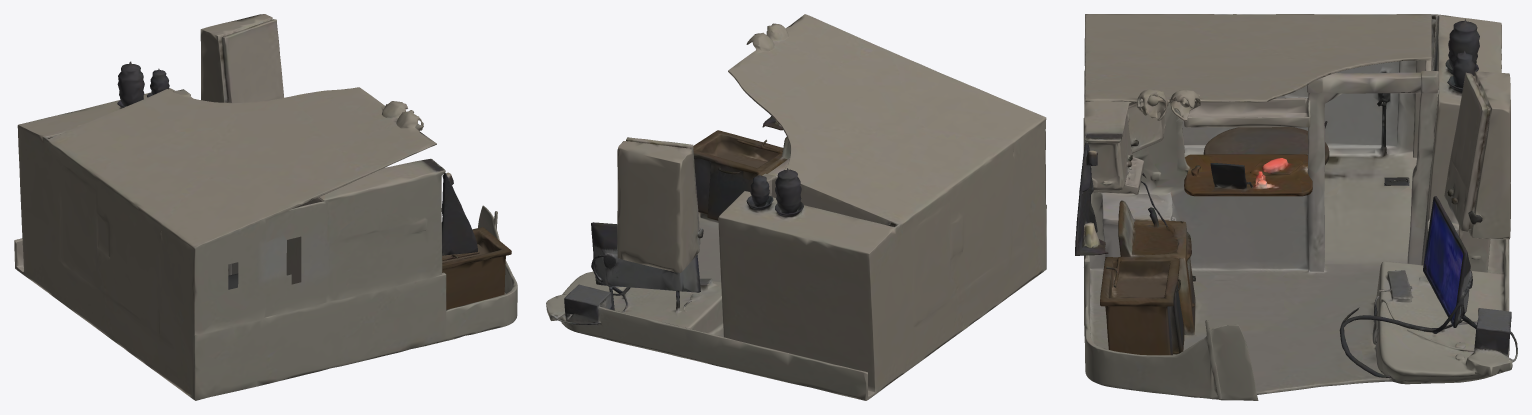
File: KITCHEN_1.glb
The picture shows the model from 3 angles, left to right: view 1: azimuth 30°, elevation 25°; view 2: azimuth 150°, elevation 25°; view 3: azimuth 270°, elevation 25°; orthographic projection. The views are drawn at different scales.
Visible parts, largest first — view 1: tripo_node_1ba30b30-50e6-4e9d-8a05-c52896af5b47; view 2: tripo_node_1ba30b30-50e6-4e9d-8a05-c52896af5b47; view 3: tripo_node_1ba30b30-50e6-4e9d-8a05-c52896af5b47.
Part boxes in pixels (x1,y1,x2,y2): tripo_node_1ba30b30-50e6-4e9d-8a05-c52896af5b47: (14,14,517,400); tripo_node_1ba30b30-50e6-4e9d-8a05-c52896af5b47: (546,14,1046,400); tripo_node_1ba30b30-50e6-4e9d-8a05-c52896af5b47: (1075,14,1517,400).
Bounding box in the file's own units: 1 × 0.5665 × 0.9175.
1 material, 1 textured.
